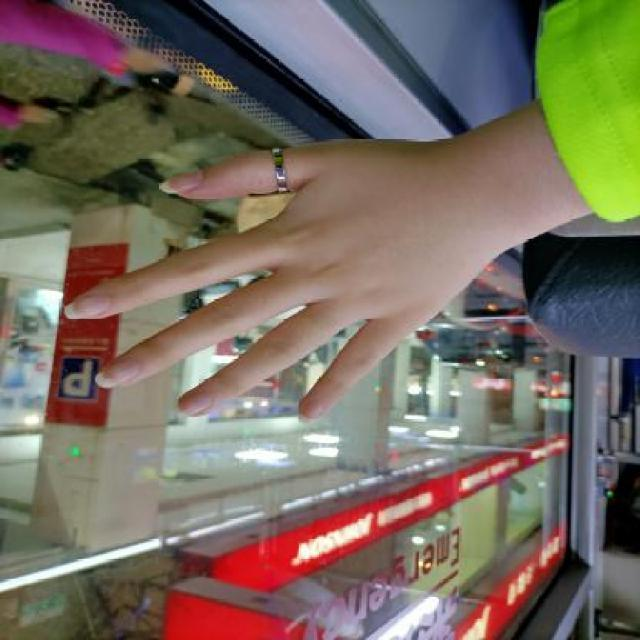bare_hand: (47, 118, 535, 444)
